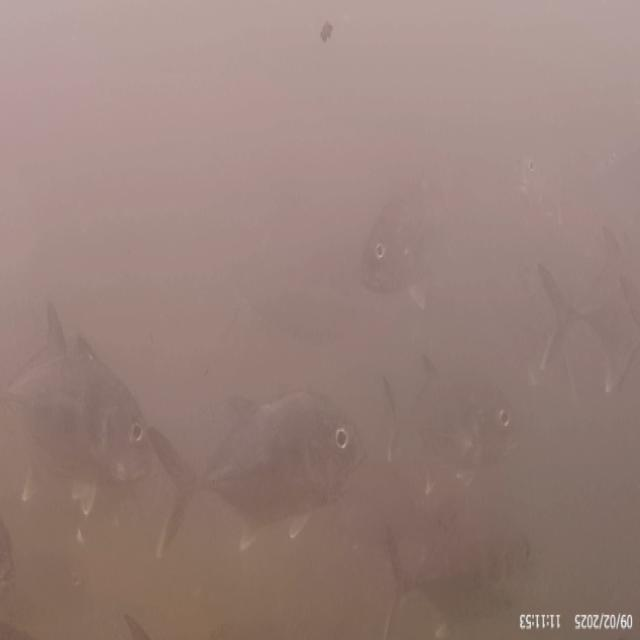ikan: (174, 372, 393, 566), (18, 314, 158, 514), (351, 171, 483, 363)
